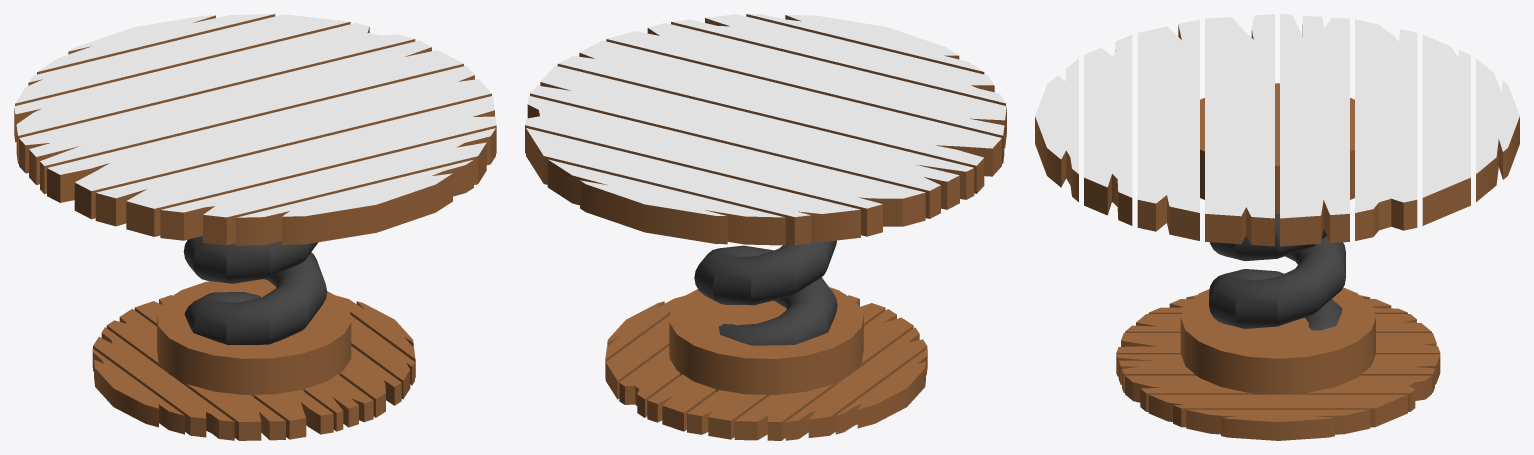
The model's file is jump.fbx.
3 renders of one model, left to right at view 1: azimuth 30°, elevation 25°; view 2: azimuth 150°, elevation 25°; view 3: azimuth 270°, elevation 25°, orthographic.
Visible parts, largest first — view 1: Circle; view 2: Circle; view 3: Circle.
Boxes of the visible parts, x1,y1,x2,y2 form: Circle: [14, 14, 496, 440]; Circle: [525, 14, 1006, 440]; Circle: [1035, 14, 1519, 440].
Size of the model in its own units: 0.6024 by 0.3524 by 0.6034.
